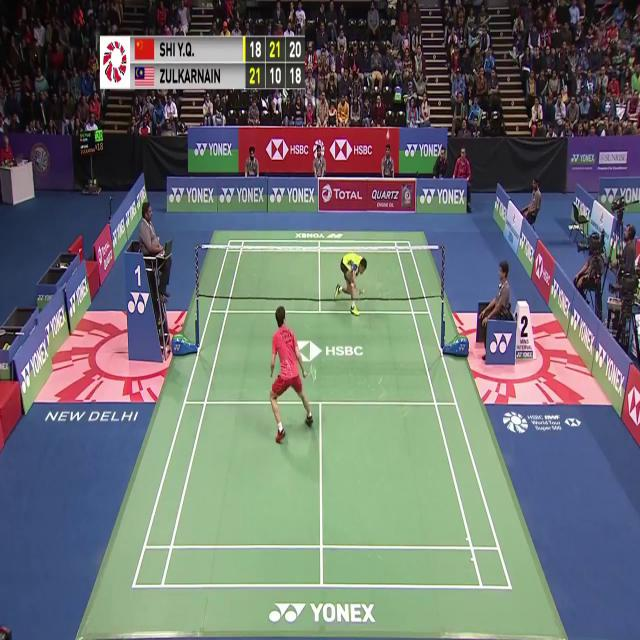Shuttlecock: (385, 127, 391, 138)
